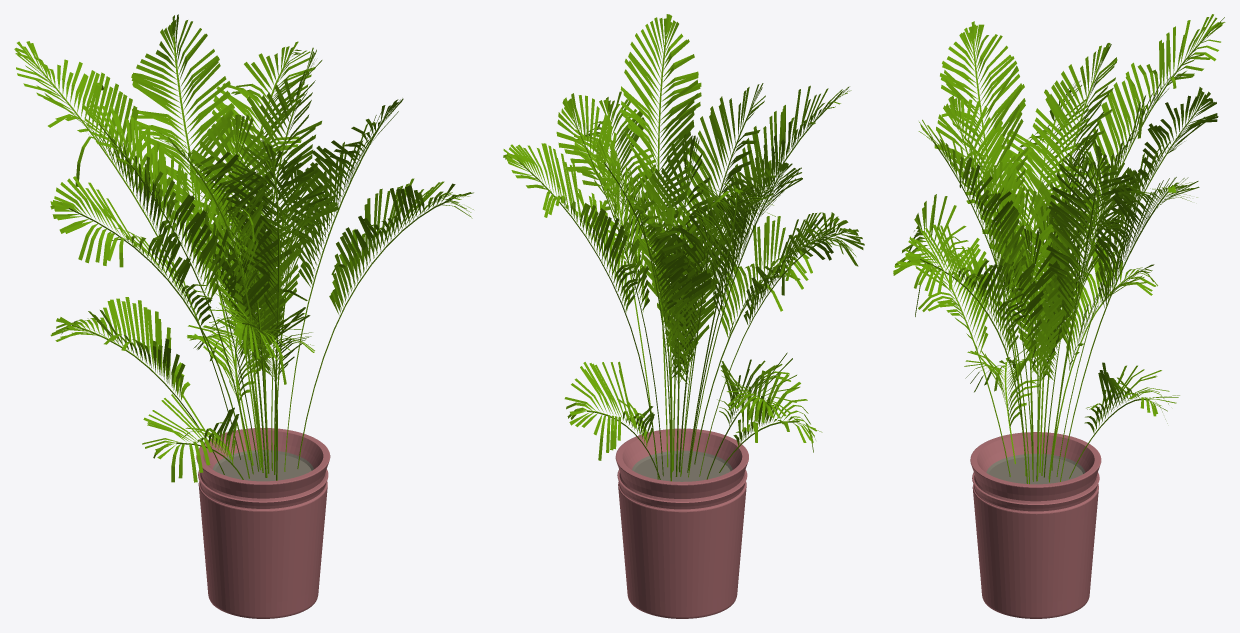
Rendered from sweethome3d-blendswap-cc-0-plant-125.glb.
3 views of the same model, side by side, from view 1: azimuth 30°, elevation 25°; view 2: azimuth 150°, elevation 25°; view 3: azimuth 270°, elevation 25° (orthographic). The views are drawn at different scales.
Parts seen in each view (by area): view 1: plant_Mesh.001, Circle; view 2: plant_Mesh.001, Circle; view 3: plant_Mesh.001, Circle.
Boxes of the visible parts, x1,y1,x2,y2 form: plant_Mesh.001: (14, 14, 473, 482); Circle: (196, 428, 330, 618); plant_Mesh.001: (503, 14, 864, 481); Circle: (615, 428, 748, 618); plant_Mesh.001: (893, 14, 1225, 484); Circle: (970, 432, 1101, 618).
Size of the model in its own units: 81.78 by 117 by 69.02.
